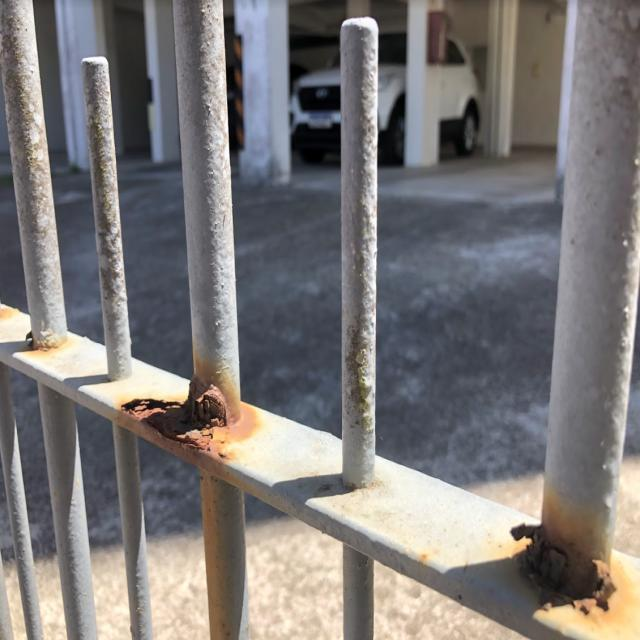Crevice Corrosion: (512, 524, 614, 614), (122, 377, 230, 450)
